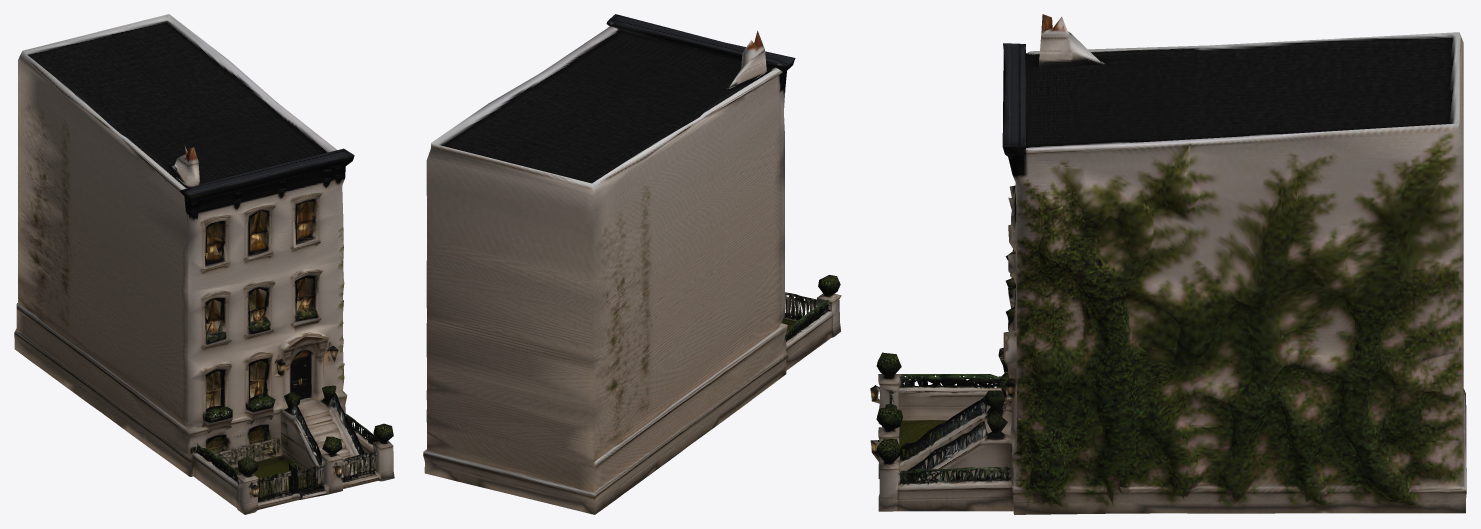
File: tripo_convert_ba319826-54ff-4db4-9f19-711a95fc2db7.fbx
The picture shows the model from 3 angles, left to right: view 1: azimuth 30°, elevation 25°; view 2: azimuth 150°, elevation 25°; view 3: azimuth 270°, elevation 25°; orthographic projection. The views are drawn at different scales.
Visible parts, largest first — view 1: tripo_node_ba319826; view 2: tripo_node_ba319826; view 3: tripo_node_ba319826.
Boxes of the visible parts, x1=… form: tripo_node_ba319826: x1=14, y1=14, x2=394, y2=514; tripo_node_ba319826: x1=423, y1=14, x2=841, y2=514; tripo_node_ba319826: x1=870, y1=14, x2=1466, y2=514.
Bounding box in the file's own units: 0.4197 × 0.7448 × 0.9774.
1 material, 1 textured.
